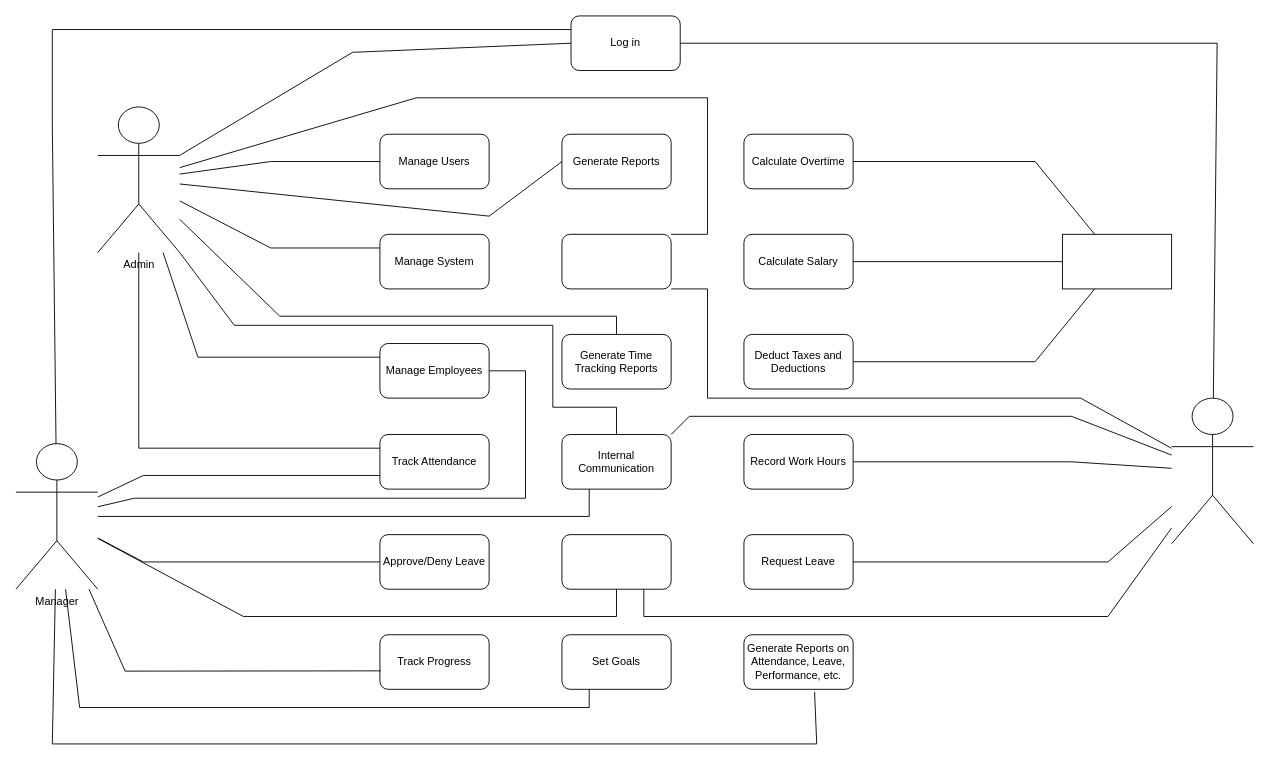
Some shapes in this 1269 by 761 pixel diagram are drawn without their labels. Here are the shapes that lost their labels. From the top down, the centre of each, then its label:
point 616,261: Generate Payslips
point 1117,261: SYSTEM
point 1212,470: Employee
point 616,561: Announcements, Messaging, Document Sharing
